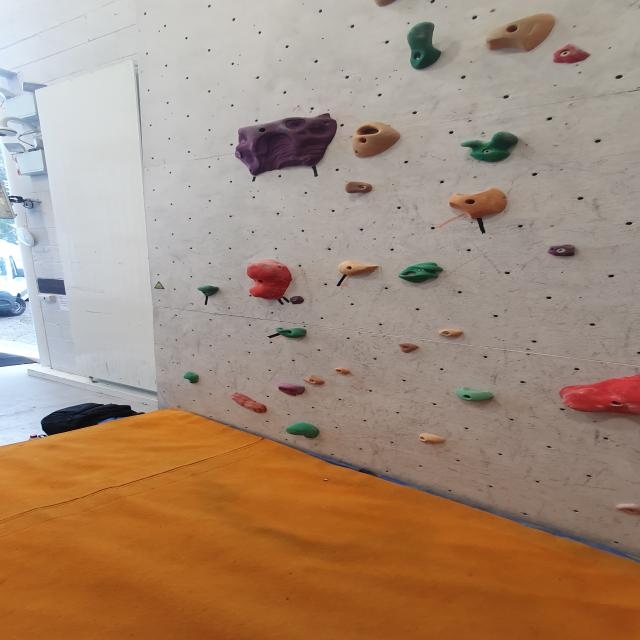Crimp: (232, 116, 342, 176), (551, 43, 593, 65), (335, 262, 381, 278), (275, 382, 308, 398), (546, 243, 580, 258), (417, 432, 448, 445), (614, 501, 640, 515), (394, 342, 420, 355), (437, 328, 467, 338), (333, 366, 354, 375)
Jug: (404, 21, 445, 70), (462, 131, 522, 164), (454, 387, 494, 404), (342, 180, 376, 196), (274, 326, 309, 339), (196, 284, 222, 297)
Pinch: (483, 13, 560, 55), (446, 188, 511, 222), (302, 376, 328, 387)
Pocket: (348, 122, 404, 160), (399, 262, 439, 284)
Sloper: (558, 382, 640, 419), (243, 261, 296, 301), (228, 392, 269, 415), (285, 421, 323, 441), (183, 372, 201, 384)
